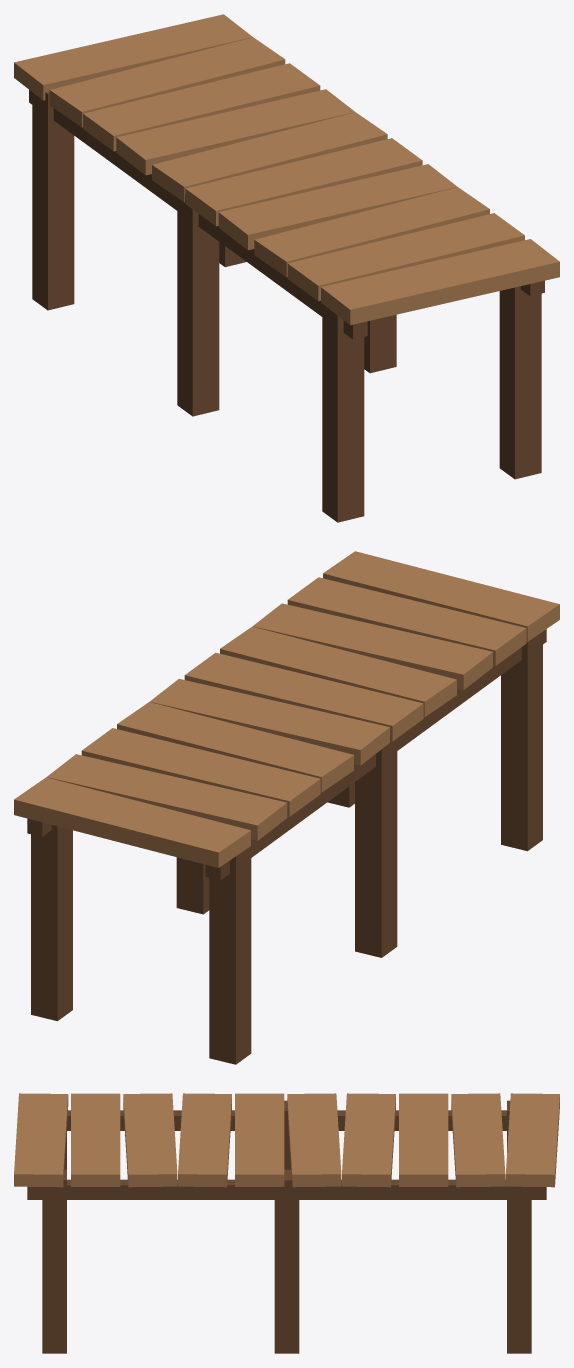
The model's file is C09_pier.obj.
3 views of the same model, one above another, from view 1: azimuth 30°, elevation 25°; view 2: azimuth 150°, elevation 25°; view 3: azimuth 270°, elevation 25° (orthographic). The views are drawn at different scales.
Visible parts, largest first — view 1: C09_pier; view 2: C09_pier; view 3: C09_pier.
Part boxes in pixels (left/top/right/bottom): C09_pier: left=14, top=14, right=559, bottom=522; C09_pier: left=14, top=551, right=559, bottom=1064; C09_pier: left=14, top=1093, right=559, bottom=1353.
Bounding box in the file's own units: 1.41 × 1.45 × 4.
